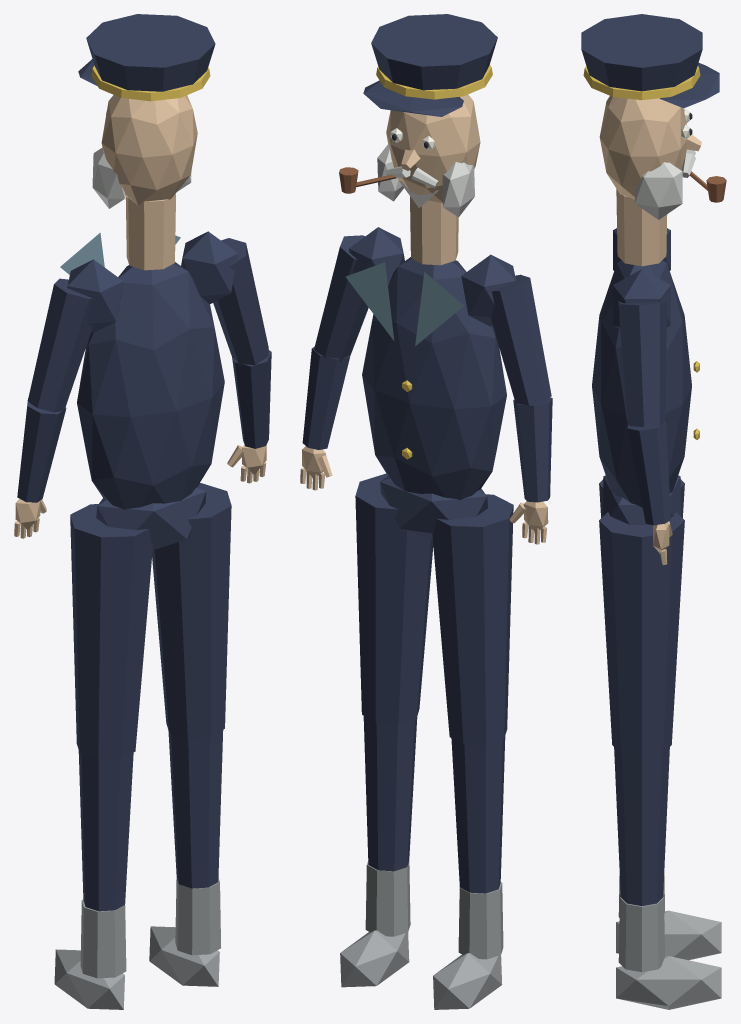
Rendered from OutfitLighthouseKeeper.fbx.
3 renders of one model, left to right at view 1: azimuth 30°, elevation 25°; view 2: azimuth 150°, elevation 25°; view 3: azimuth 270°, elevation 25°, orthographic. The views are drawn at different scales.
Visible parts, largest first — view 1: Torso, ThighLeft, ThighRight, Face, HatCrown, CalfLeft, CalfRight, SleeveLeft, SleeveRight, Neck, Waist, BootTopLeft (+11 smaller); view 2: Torso, ThighLeft, ThighRight, HatCrown, CalfLeft, CalfRight, Face, SleeveLeft, SleeveRight, ForearmSleeveLeft, Waist, ForearmSleeveRight (+14 smaller); view 3: ThighRight, Torso, HatCrown, CalfRight, Face, SleeveRight, FootRight, ForearmSleeveRight, BootTopRight, Neck, FootLeft, SideBeard (+7 smaller).
Boxes of the visible parts, x1=… form: Torso: x1=77, y1=262, x2=224, y2=509; ThighLeft: x1=70, y1=504, x2=152, y2=759; ThighRight: x1=152, y1=483, x2=231, y2=738; Face: x1=101, y1=95, x2=197, y2=205; HatCrown: x1=86, y1=14, x2=215, y2=91; CalfLeft: x1=78, y1=750, x2=133, y2=911; CalfRight: x1=168, y1=730, x2=223, y2=888; SleeveLeft: x1=27, y1=278, x2=92, y2=412; SleeveRight: x1=213, y1=238, x2=268, y2=365; Neck: x1=125, y1=193, x2=175, y2=270; Waist: x1=96, y1=485, x2=206, y2=550; BootTopLeft: x1=80, y1=899, x2=126, y2=978; Torso: x1=362, y1=257, x2=506, y2=500; ThighLeft: x1=432, y1=494, x2=513, y2=744; ThighRight: x1=355, y1=473, x2=433, y2=724; HatCrown: x1=371, y1=14, x2=497, y2=90; CalfLeft: x1=451, y1=736, x2=505, y2=893; CalfRight: x1=363, y1=716, x2=417, y2=871; Face: x1=386, y1=94, x2=480, y2=203; SleeveLeft: x1=490, y1=274, x2=551, y2=405; SleeveRight: x1=314, y1=235, x2=368, y2=361; ForearmSleeveLeft: x1=513, y1=397, x2=552, y2=502; Waist: x1=380, y1=476, x2=487, y2=539; ForearmSleeveRight: x1=302, y1=346, x2=349, y2=449; ThighRight: x1=599, y1=512, x2=684, y2=756; Torso: x1=592, y1=260, x2=691, y2=507; HatCrown: x1=581, y1=14, x2=702, y2=91; CalfRight: x1=614, y1=747, x2=669, y2=905; Face: x1=599, y1=96, x2=686, y2=199; SleeveRight: x1=618, y1=299, x2=667, y2=426; FootRight: x1=616, y1=956, x2=721, y2=1009; ForearmSleeveRight: x1=627, y1=422, x2=670, y2=525; BootTopRight: x1=618, y1=897, x2=664, y2=972; Neck: x1=616, y1=189, x2=667, y2=266; FootLeft: x1=616, y1=910, x2=721, y2=960; SideBeard: x1=635, y1=162, x2=682, y2=219.
Bounding box in the file's own units: 0.4765 × 1.75 × 0.2436.
